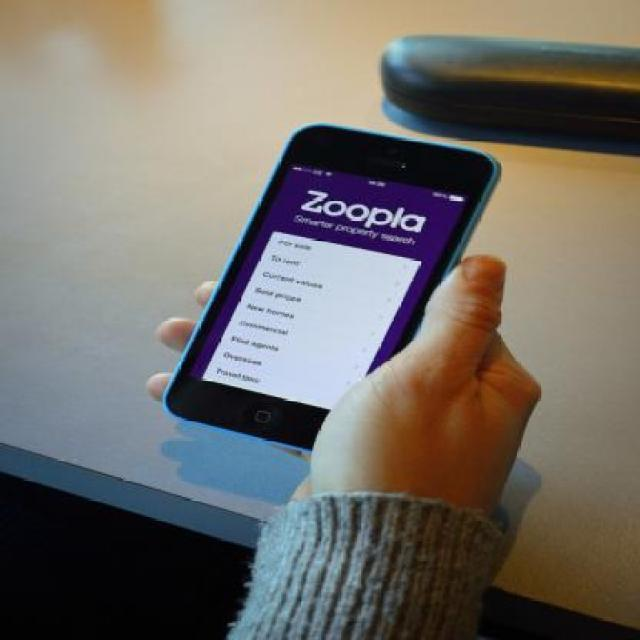phone: (163, 123, 500, 452)
